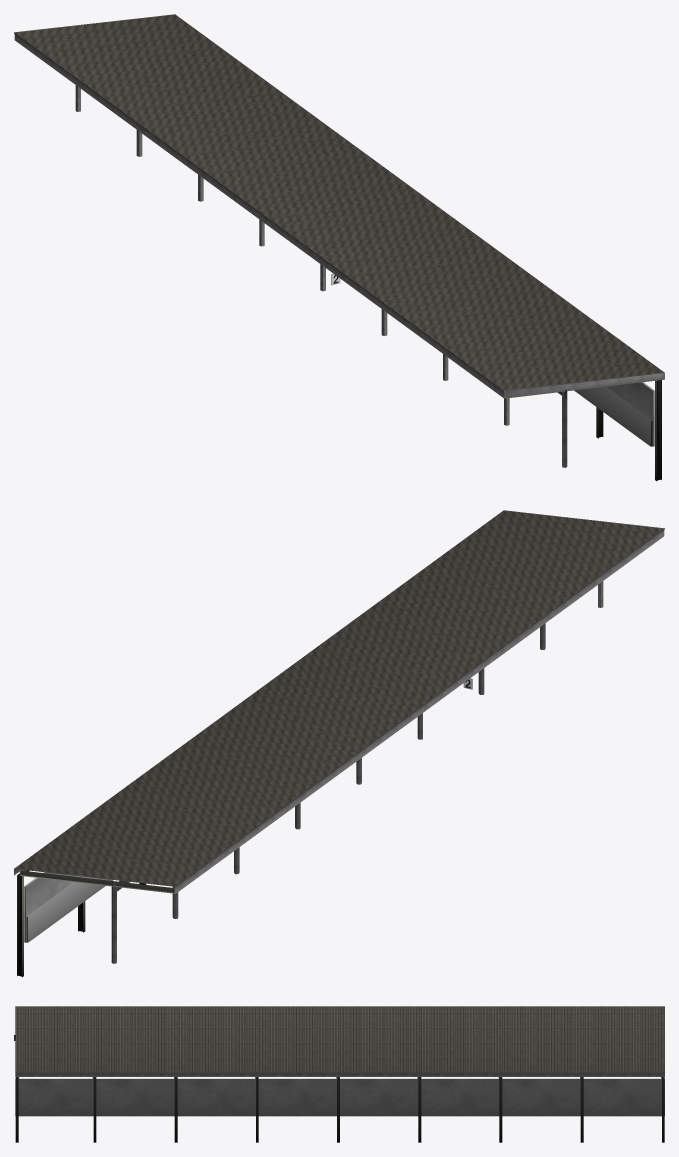
Rendered from AMB_HOME_YANE3.glb.
3 views of the same model, one above another, from view 1: azimuth 30°, elevation 25°; view 2: azimuth 150°, elevation 25°; view 3: azimuth 270°, elevation 25° (orthographic). The views are drawn at different scales.
Visible parts, largest first — view 1: Mesh1; view 2: Mesh1; view 3: Mesh1.
Part boxes in pixels (bbox=[...]): Mesh1: bbox=[14, 14, 664, 481]; Mesh1: bbox=[14, 510, 664, 977]; Mesh1: bbox=[14, 1006, 664, 1142].
Size of the model in its own units: 19.01 by 14.47 by 100.
Materials: 11 (10 with a texture image).
